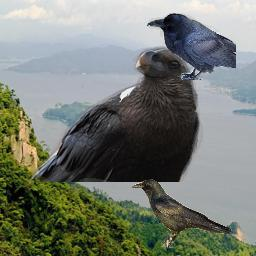Crow: (27, 45, 203, 182), (130, 179, 232, 248), (147, 13, 236, 80)
